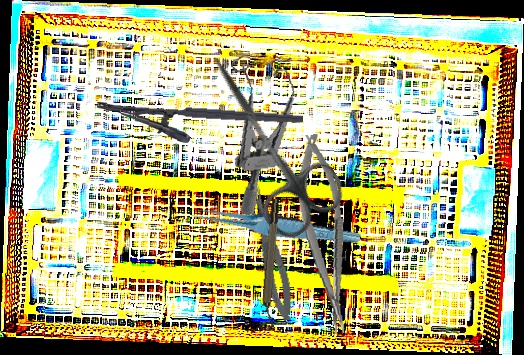Fixation Ring: (256, 198, 287, 332)
Iris Scissors: (176, 36, 353, 246)
Micro Scissor: (245, 183, 299, 323)
Needle Holder: (291, 132, 356, 337), (94, 99, 304, 153)
Speculum: (218, 42, 313, 216)
Tissue Forceps: (188, 193, 362, 257)
